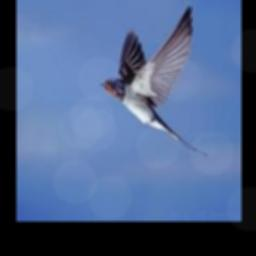Swallow: (101, 4, 208, 156)
